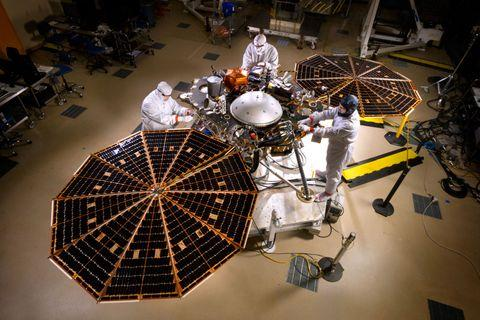antenna: (46, 128, 260, 306), (293, 53, 423, 119), (229, 90, 284, 127)
body: (180, 67, 325, 158)
